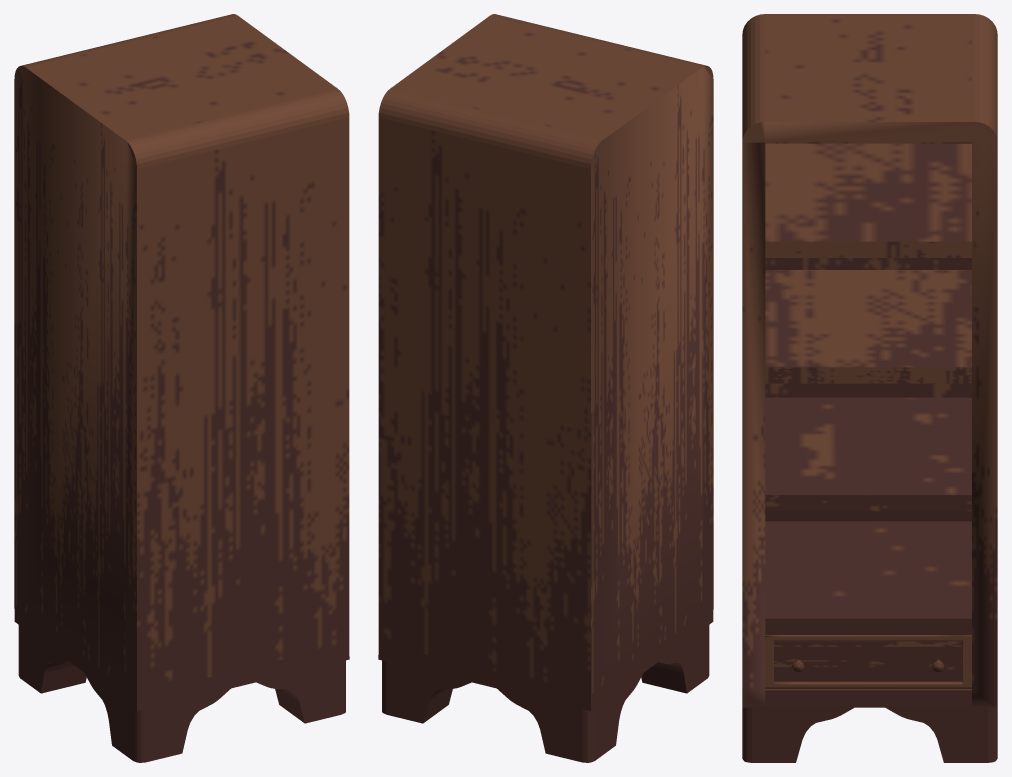
File: bookcase.fbx
The picture shows the model from 3 angles, left to right: view 1: azimuth 30°, elevation 25°; view 2: azimuth 150°, elevation 25°; view 3: azimuth 270°, elevation 25°; orthographic projection. The views are drawn at different scales.
Visible parts, largest first — view 1: Cube.017, Plane.058, Plane.057, Plane.055; view 2: Cube.017, Plane.055, Plane.056, Plane.058; view 3: Cube.017, Plane.059, Cube.001, Plane.056, Plane.057.
Boxes of the visible parts, bbox=[...] form: Cube.017: bbox=[14, 14, 349, 711]; Plane.058: bbox=[84, 673, 230, 762]; Plane.057: bbox=[256, 660, 345, 723]; Plane.055: bbox=[18, 625, 86, 693]; Cube.017: bbox=[378, 14, 713, 711]; Plane.055: bbox=[497, 673, 643, 762]; Plane.056: bbox=[382, 660, 471, 723]; Plane.058: bbox=[641, 625, 709, 693]; Cube.017: bbox=[742, 14, 997, 707]; Plane.059: bbox=[765, 635, 971, 689]; Cube.001: bbox=[765, 142, 971, 521]; Plane.056: bbox=[884, 707, 997, 762]; Plane.057: bbox=[742, 707, 855, 762].
Size of the model in its own units: 209 by 554 by 200.
